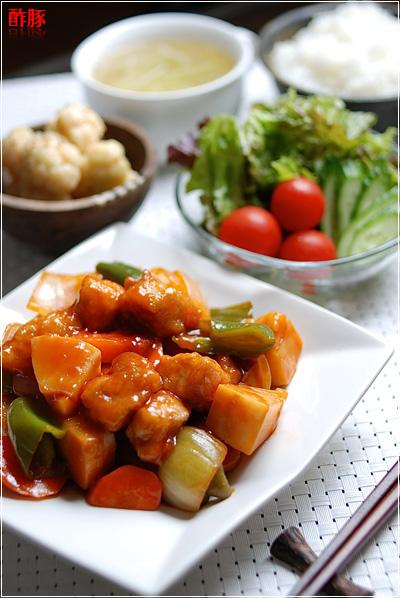plate: (0, 224, 392, 595)
rice: (268, 4, 399, 100)
